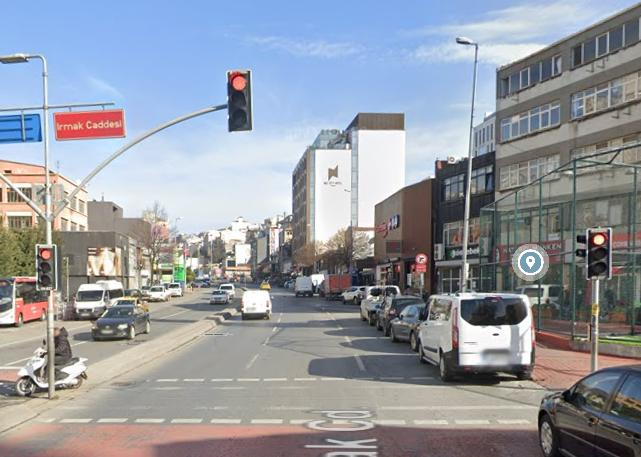redlight: (228, 71, 251, 130), (587, 227, 608, 277), (37, 244, 54, 289)
